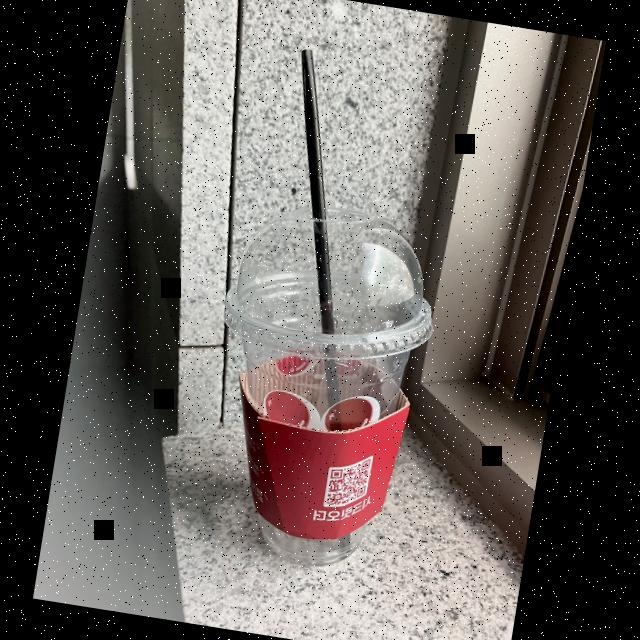plastic_cup: (185, 190, 452, 581)
plastic_cup_lid: (216, 190, 457, 376)
straw: (299, 45, 342, 414)
